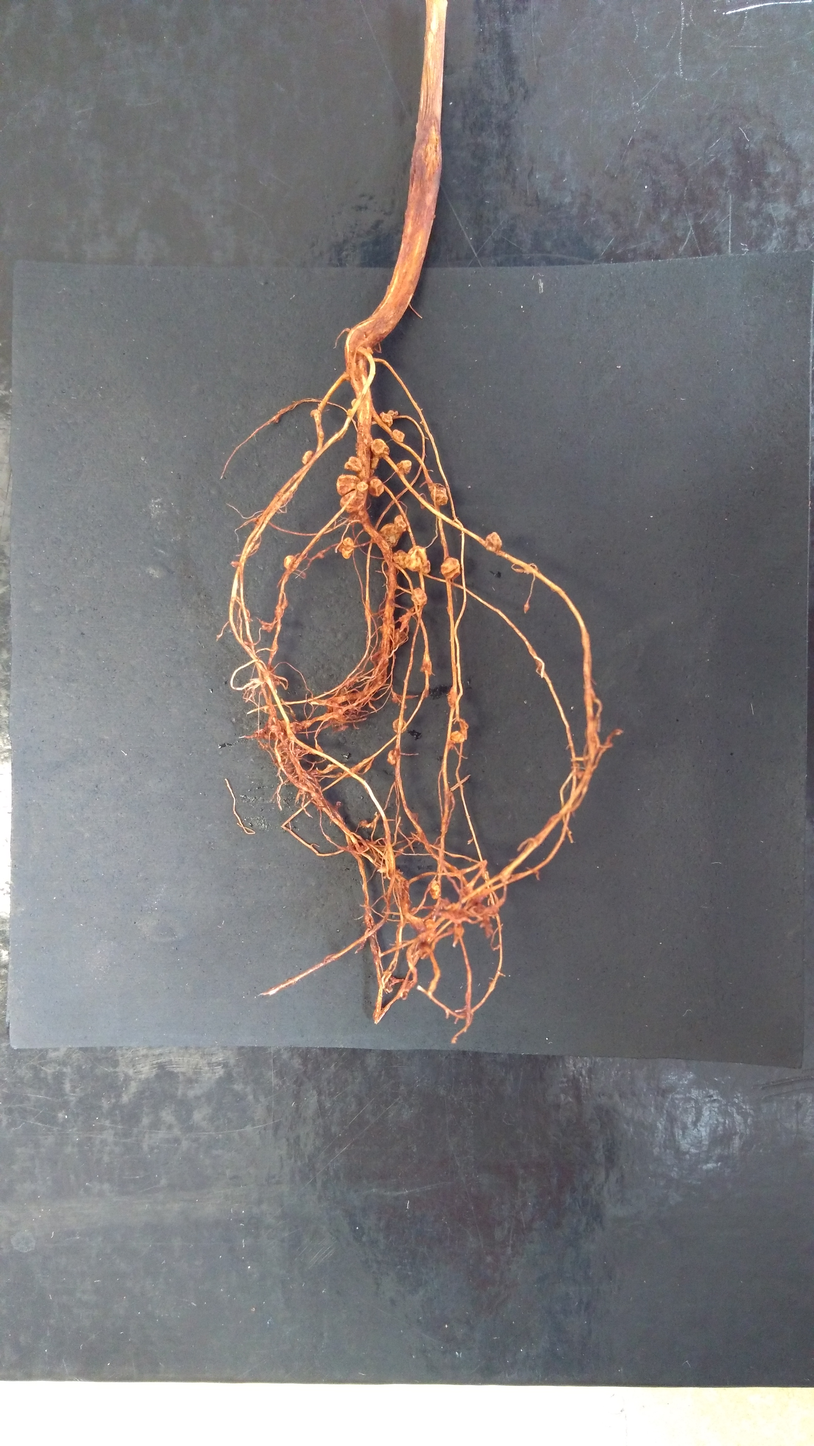nodule: (338, 489, 367, 513), (379, 523, 403, 548), (336, 473, 360, 497), (405, 545, 427, 571), (440, 557, 461, 580), (392, 549, 411, 568), (430, 487, 449, 506), (370, 439, 390, 457), (331, 702, 347, 724), (343, 456, 362, 473), (485, 532, 502, 551), (411, 587, 427, 606), (391, 628, 406, 648), (368, 479, 384, 497), (341, 537, 354, 559), (394, 514, 408, 533), (396, 459, 412, 475), (429, 879, 441, 900), (423, 918, 437, 936), (392, 718, 407, 733), (379, 412, 393, 428), (500, 866, 512, 883), (283, 555, 297, 569), (450, 730, 465, 743), (301, 450, 313, 464), (280, 720, 294, 732), (393, 429, 405, 442), (356, 481, 369, 493), (421, 559, 431, 574), (387, 750, 396, 765), (370, 456, 380, 469), (351, 399, 362, 410), (398, 614, 410, 623), (454, 926, 464, 936), (387, 409, 399, 417), (381, 653, 389, 664), (447, 695, 454, 707), (281, 599, 289, 609), (576, 770, 584, 780), (230, 561, 242, 567), (388, 534, 396, 543), (366, 346, 374, 354), (346, 409, 354, 416), (270, 725, 278, 732), (361, 820, 368, 827), (266, 625, 272, 632), (318, 431, 324, 437)
